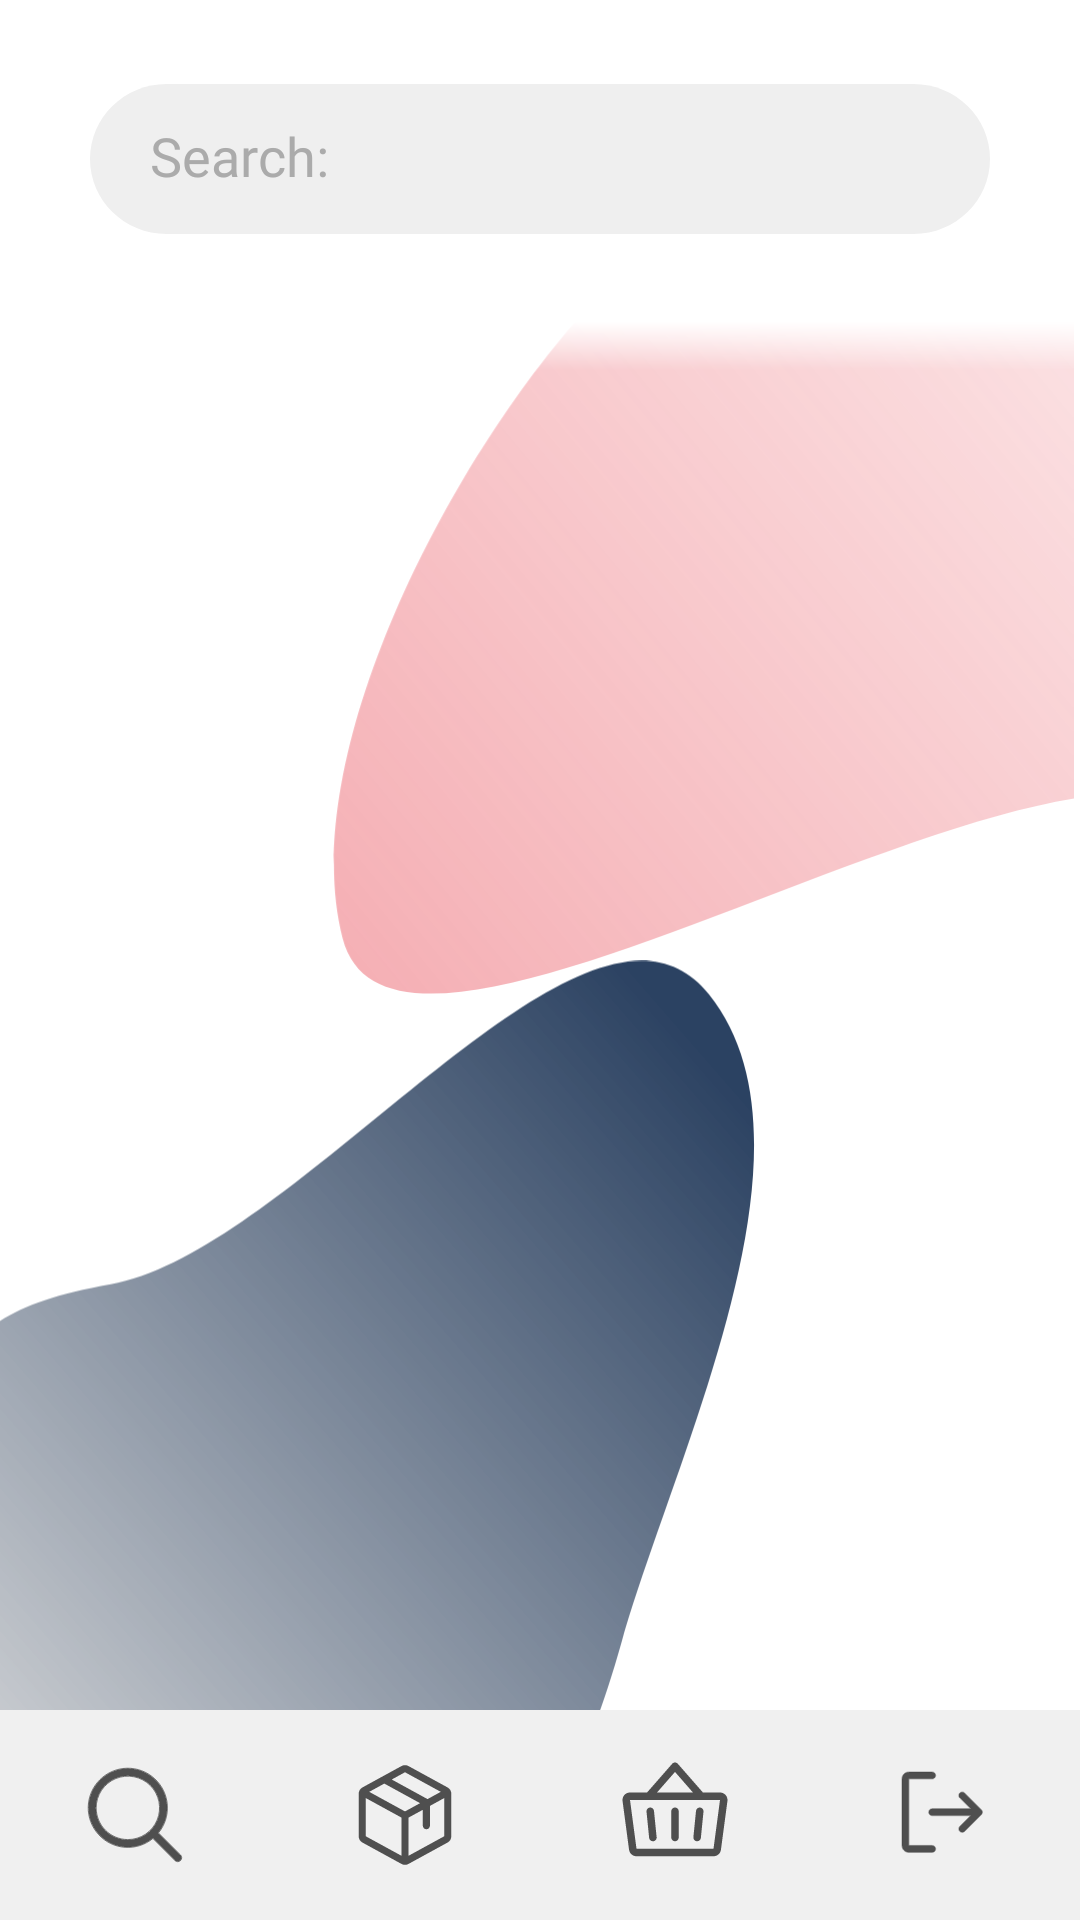

Where icons sit on this 1080x1920 app screen, as (x1, y1, x2, y2):
basket: (622, 1762, 728, 1857)
package: (358, 1765, 452, 1865)
search: (87, 1767, 182, 1862)
